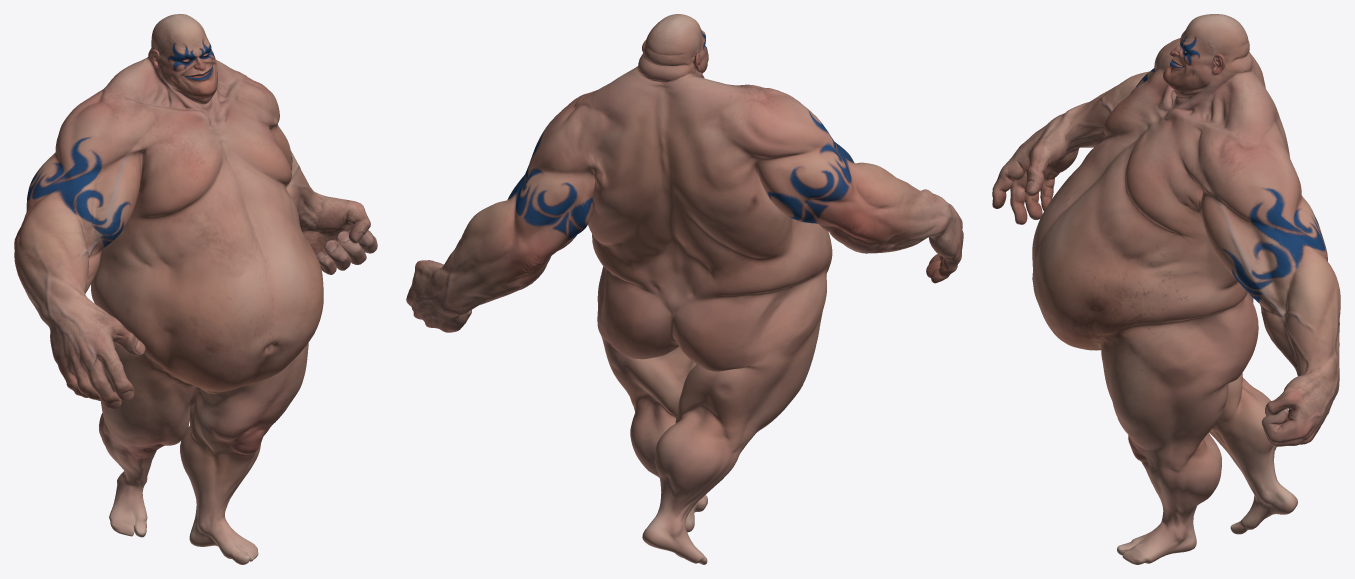
3 views of the same model, side by side, from view 1: azimuth 30°, elevation 25°; view 2: azimuth 150°, elevation 25°; view 3: azimuth 270°, elevation 25° (orthographic). The views are drawn at different scales.
Visible parts, largest first — view 1: Earthquake_82_optim; view 2: Earthquake_82_optim; view 3: Earthquake_82_optim.
Part boxes in pixels (x1,y1,x2,y2): Earthquake_82_optim: (14,14,377,564); Earthquake_82_optim: (406,14,963,564); Earthquake_82_optim: (992,14,1340,564).
Size of the model in its own units: 1.76 by 2.04 by 1.21.
